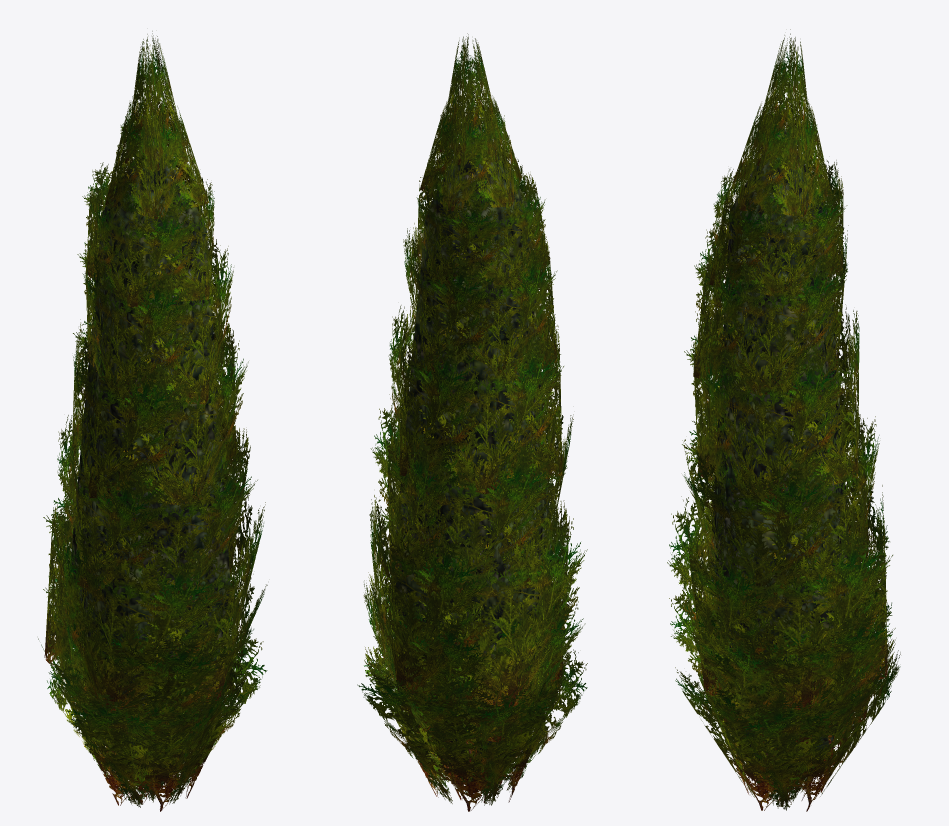
Rendered from cypress_v4.glb.
The picture shows the model from 3 angles, left to right: view 1: azimuth 30°, elevation 25°; view 2: azimuth 150°, elevation 25°; view 3: azimuth 270°, elevation 25°; orthographic projection.
Visible parts, largest first — view 1: tree_cypress_med_branches, tree_cypress_med; view 2: tree_cypress_med_branches, tree_cypress_med; view 3: tree_cypress_med_branches, tree_cypress_med.
Boxes of the visible parts, x1,y1,x2,y2 form: tree_cypress_med_branches: [38, 31, 267, 811]; tree_cypress_med: [71, 126, 230, 796]; tree_cypress_med_branches: [357, 33, 587, 811]; tree_cypress_med: [395, 118, 551, 789]; tree_cypress_med_branches: [667, 29, 900, 811]; tree_cypress_med: [710, 126, 848, 792].
Bounding box in the file's own units: 3.48 × 10.17 × 3.45.
Materials: 2 (2 with a texture image).
